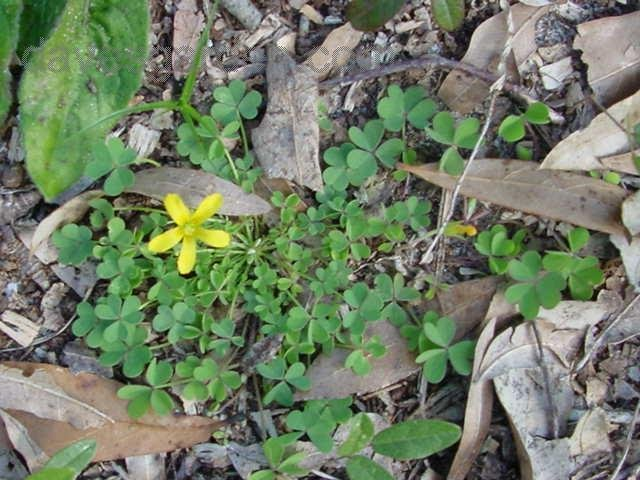oxalis: (257, 282, 462, 394), (58, 257, 207, 389), (484, 215, 618, 316), (328, 74, 433, 193), (179, 83, 274, 181), (271, 204, 430, 262)
